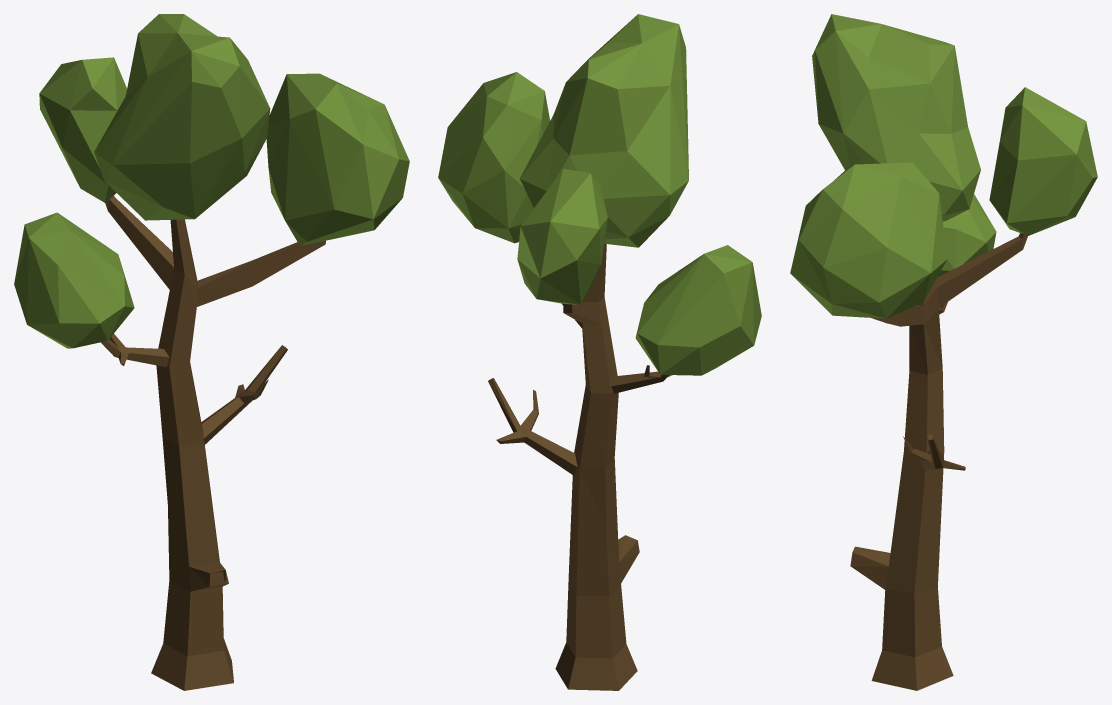
File: Tree_02.glb
The picture shows the model from 3 angles, left to right: view 1: azimuth 30°, elevation 25°; view 2: azimuth 150°, elevation 25°; view 3: azimuth 270°, elevation 25°; orthographic projection. The views are drawn at different scales.
Parts seen in each view (by area): view 1: Tree_02_LOD0; view 2: Tree_02_LOD0; view 3: Tree_02_LOD0.
Boxes of the visible parts, x1,y1,x2,y2 form: Tree_02_LOD0: (14, 14, 409, 690); Tree_02_LOD0: (438, 14, 761, 690); Tree_02_LOD0: (790, 14, 1097, 690).
Size of what is drawn, in the model's own units: 3.23 by 5.95 by 2.59.
Materials: 1 (1 with a texture image).
